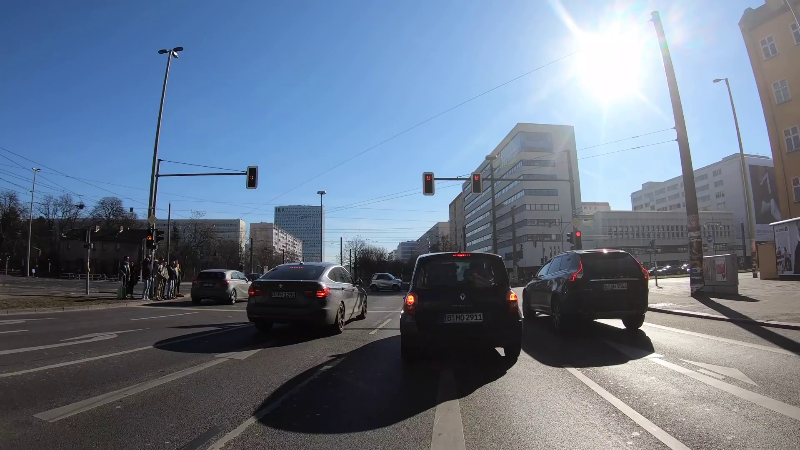Plate: (437, 311, 486, 326), (265, 289, 297, 300), (597, 281, 629, 291), (201, 282, 215, 287)
